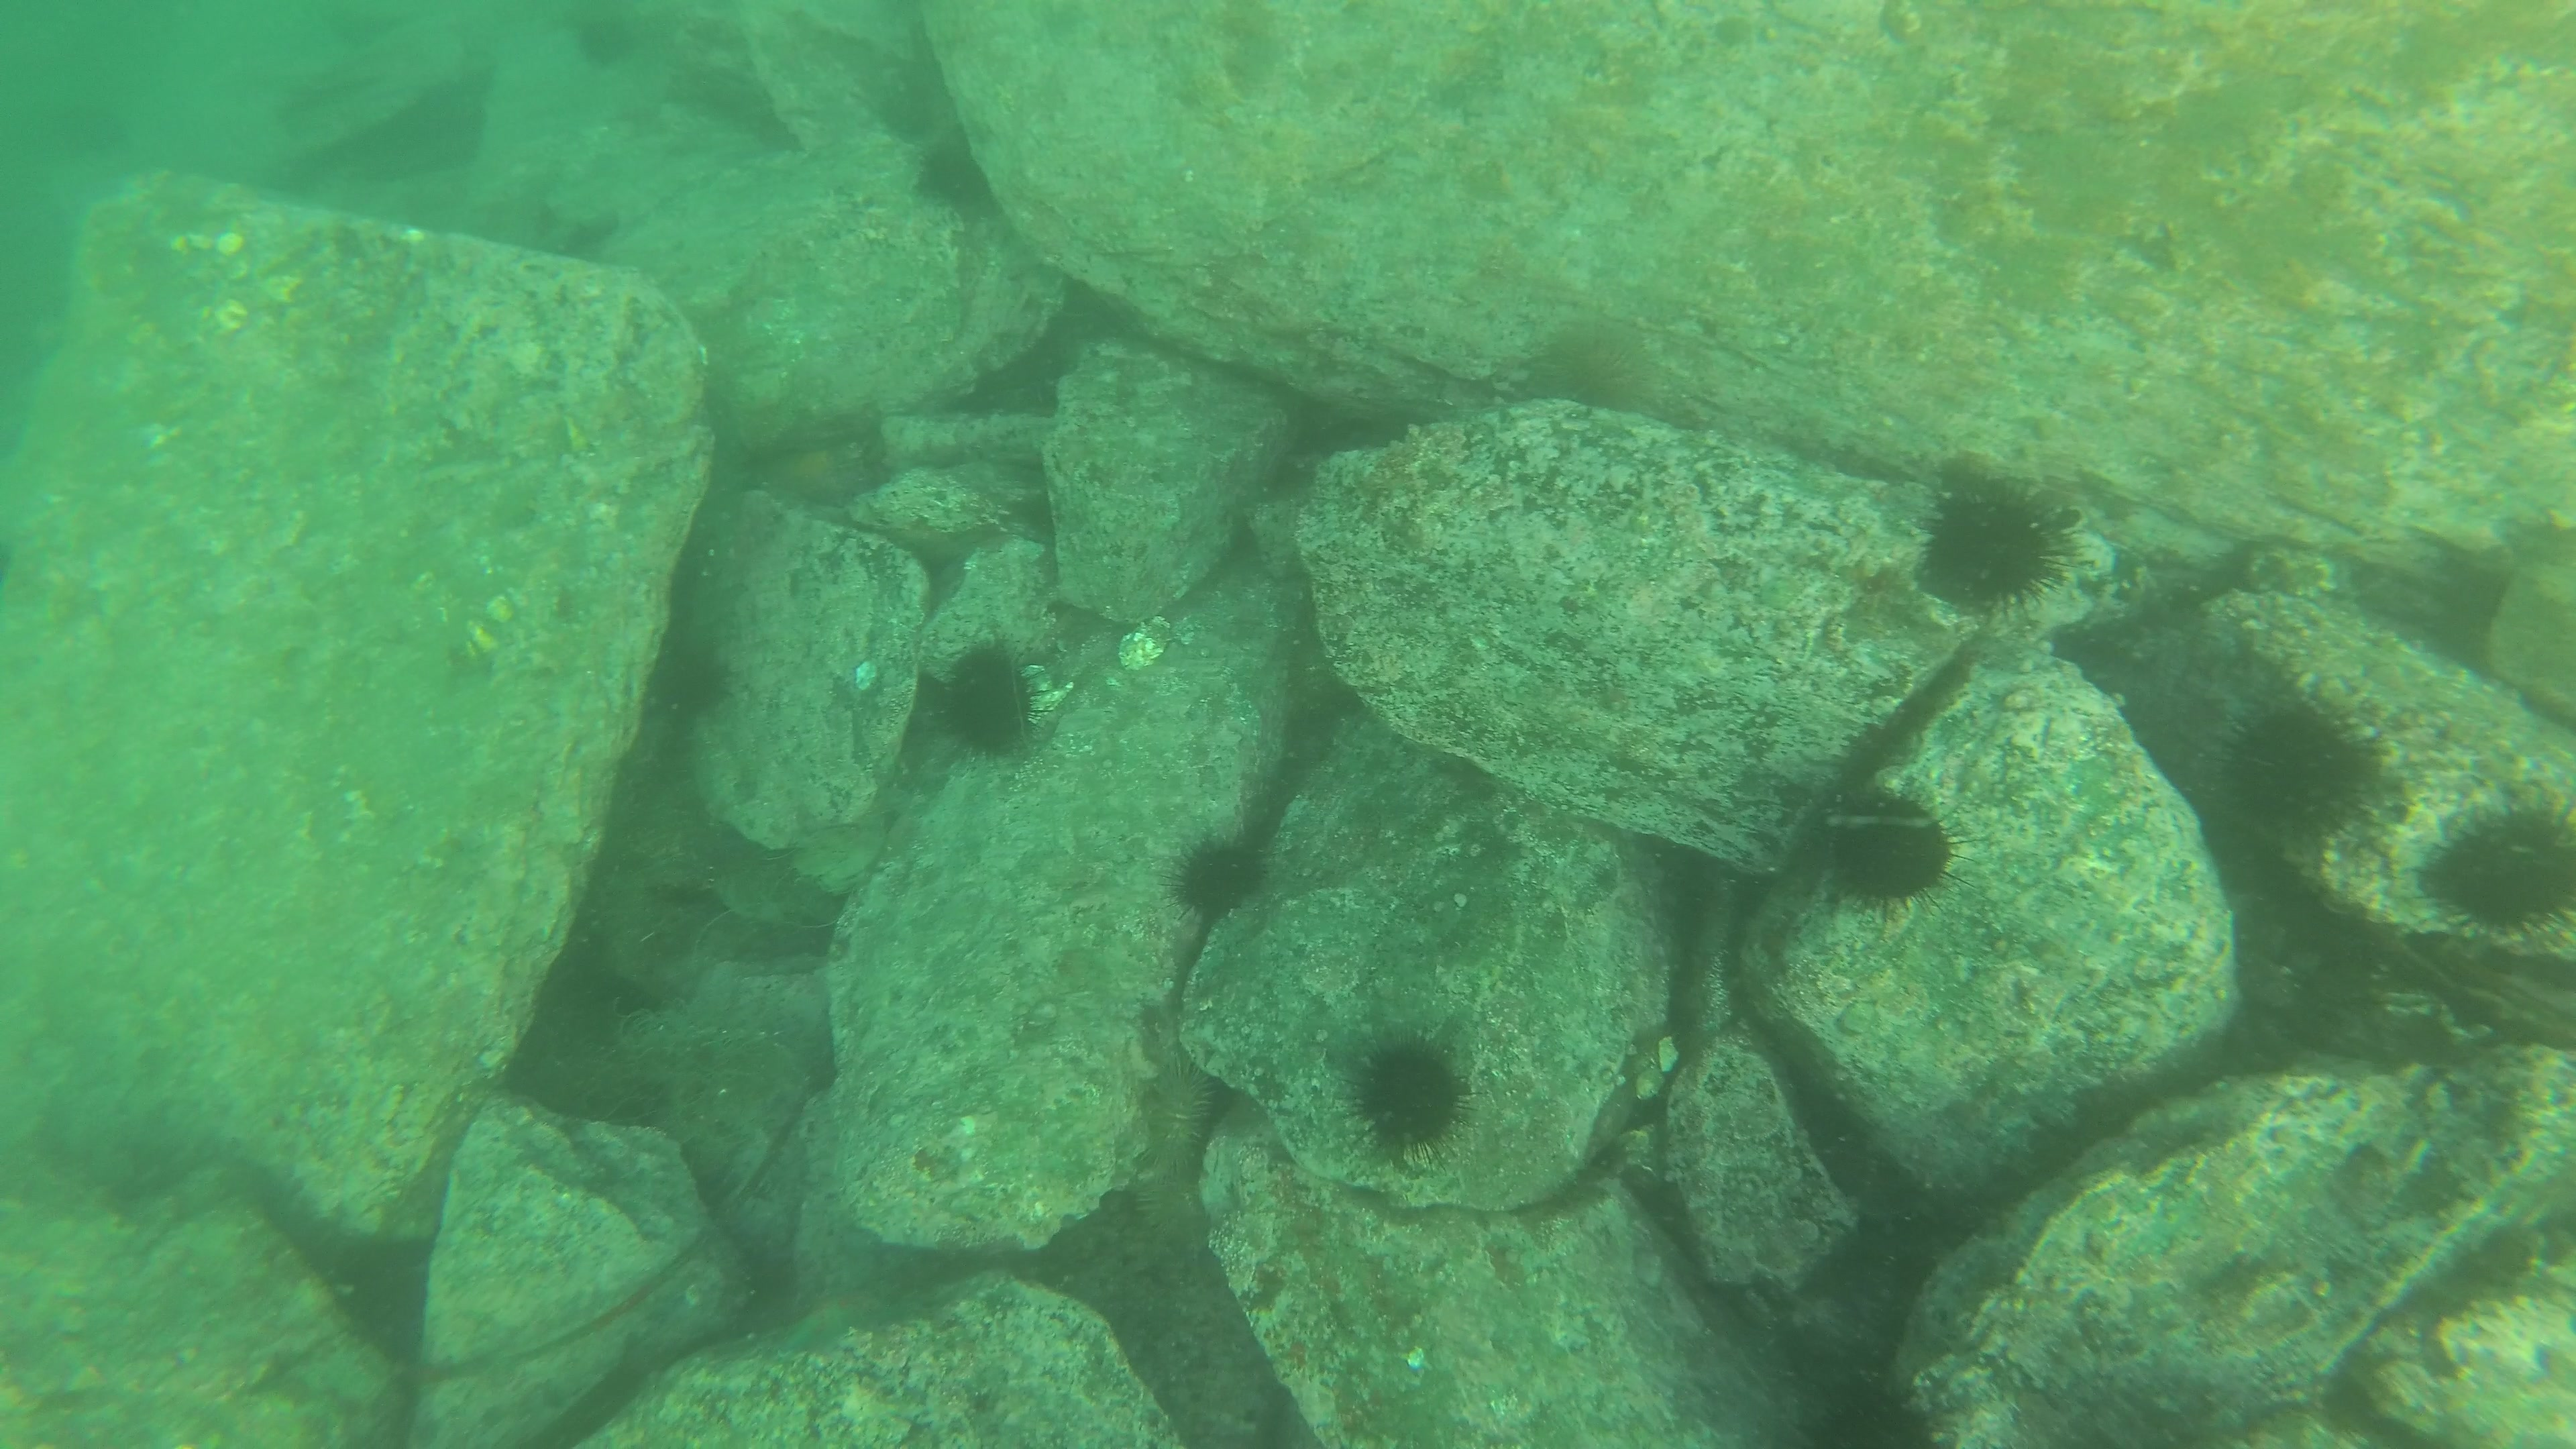echinus: (2233, 695, 2364, 847), (2440, 787, 2576, 927), (1932, 494, 2081, 621), (1826, 787, 1967, 913), (1355, 1042, 1476, 1148), (941, 649, 1044, 766), (1799, 1362, 1934, 1449), (1534, 327, 1644, 414), (918, 142, 1010, 226), (1177, 840, 1270, 911), (665, 639, 731, 722)
starfish: (777, 1288, 890, 1353)
